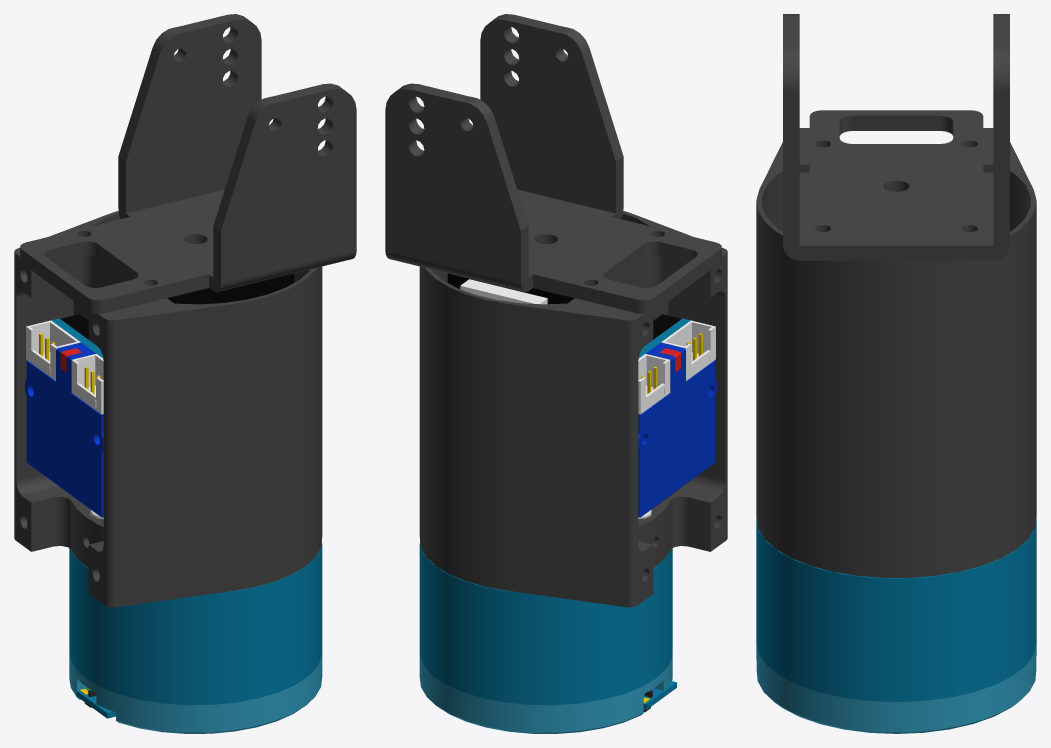
Rendered from NECK_LINK1_mesh.dae.
The picture shows the model from 3 angles, left to right: view 1: azimuth 30°, elevation 25°; view 2: azimuth 150°, elevation 25°; view 3: azimuth 270°, elevation 25°; orthographic projection. The views are drawn at different scales.
Parts seen in each view (by area): view 1: サーフェス1_ncl1_2, サーフェス1; view 2: サーフェス1_ncl1_2, サーフェス1; view 3: サーフェス1_ncl1_2, サーフェス1.
Part boxes in pixels (x1,y1,x2,y2): サーフェス1_ncl1_2: (14,211,322,733); サーフェス1: (20,14,356,313); サーフェス1_ncl1_2: (419,211,727,733); サーフェス1: (385,14,721,313); サーフェス1_ncl1_2: (756,128,1036,733); サーフェス1: (783,14,1009,260).
Size of the model in its own units: 0.048 by 0.042 by 0.113.
